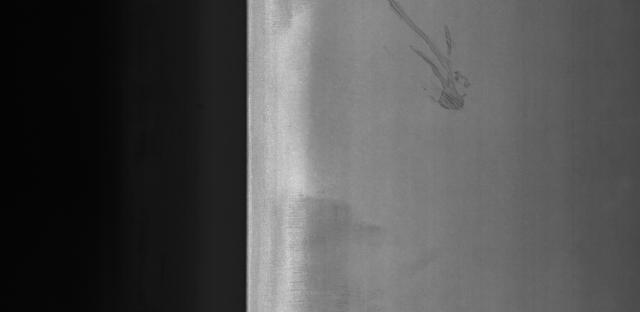water_spot: (372, 0, 488, 120)
